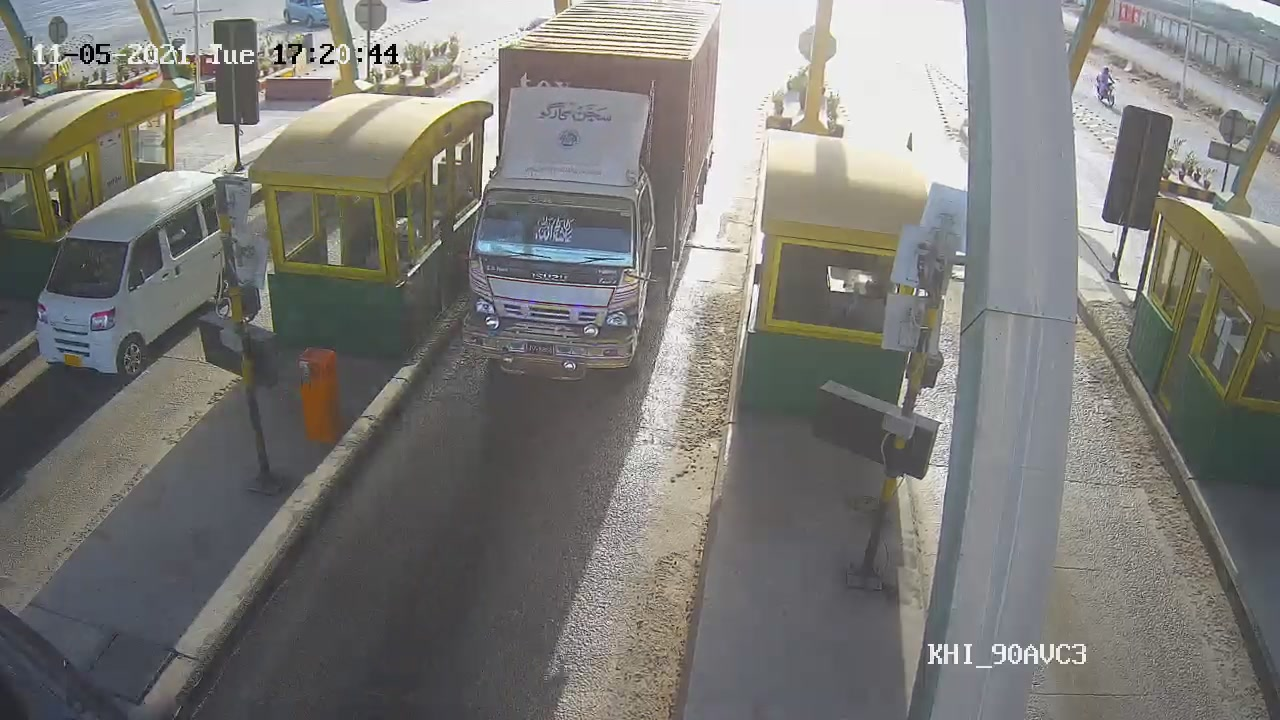F6: (466, 4, 720, 371)
